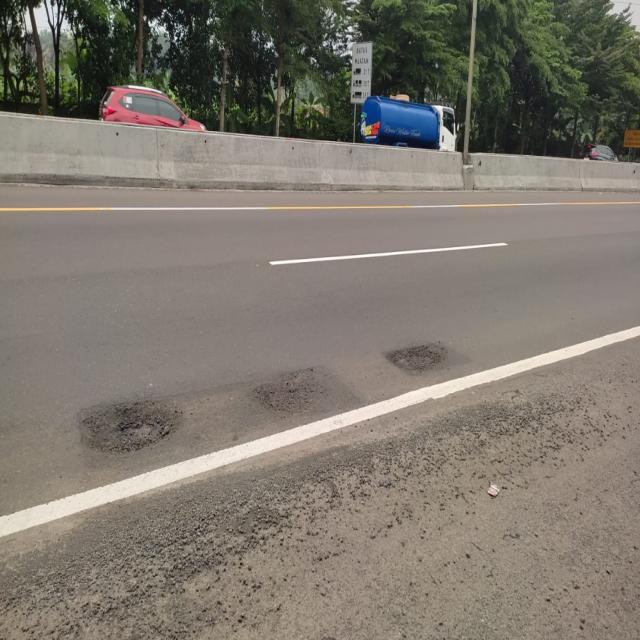Buraco: (78, 397, 187, 458), (382, 341, 450, 375)
